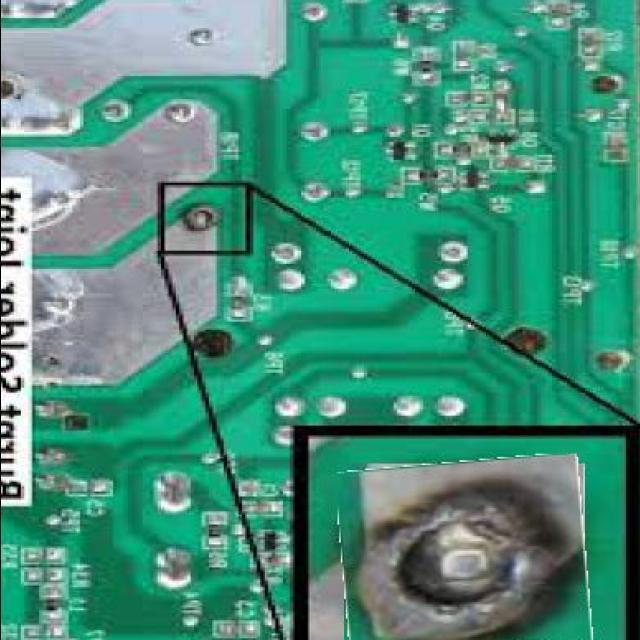Burn: (338, 457, 588, 640)
